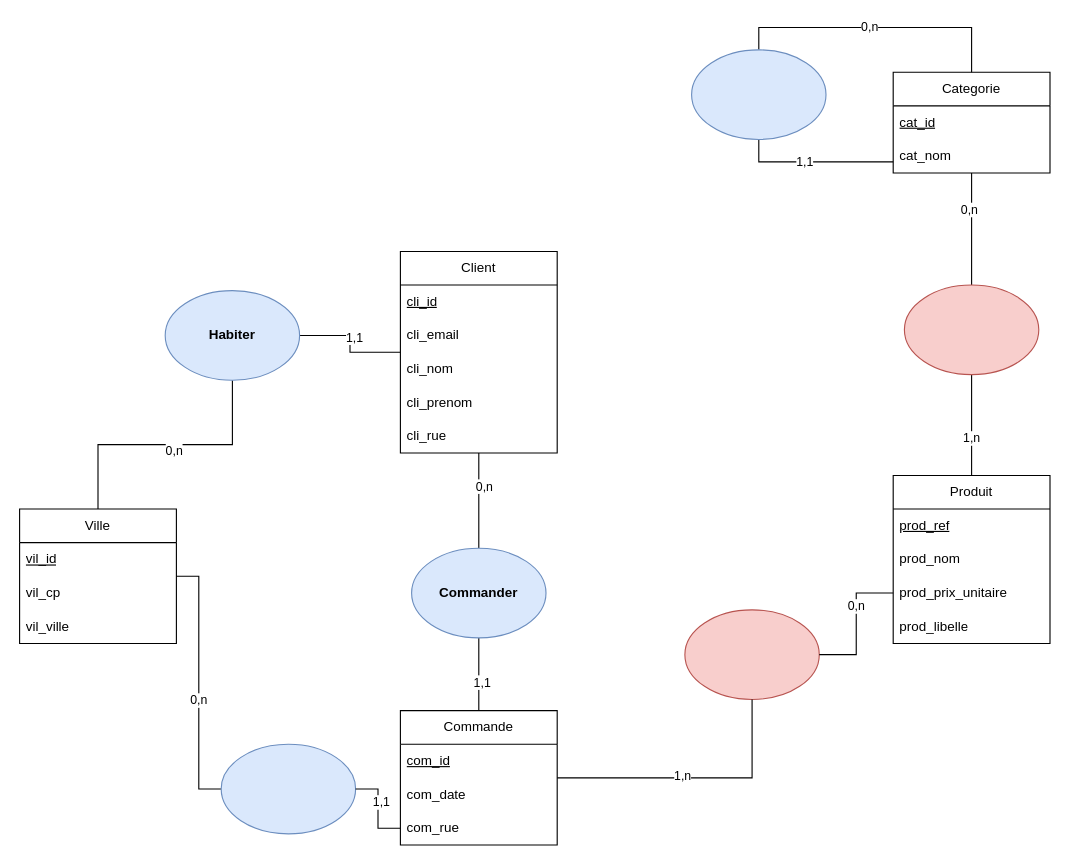
Image size: 1070x865. Some labels were removed from this diagram. Here are the shapes that lost their labels. From the top down, the centre of each, then its label:
At (758,94): "Appartenir".
At (971,329): "Categoriser".
At (751,654): "Contenir con_quantite".
At (288,788): "est livrée à".
